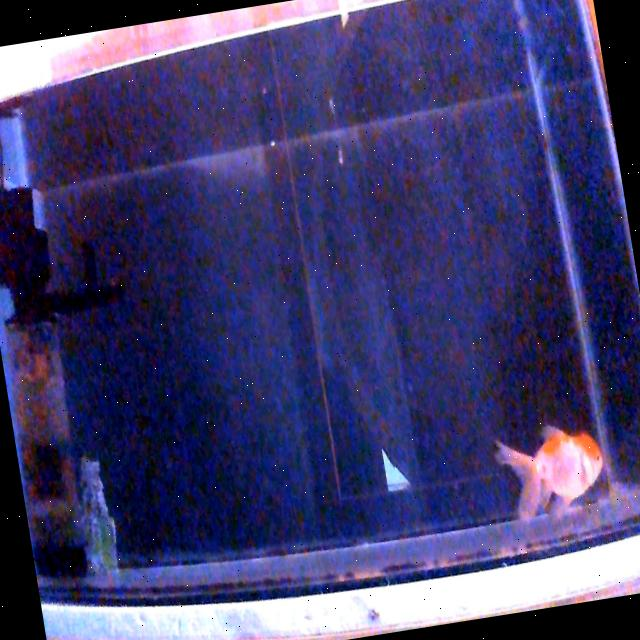fish: (492, 416, 610, 526)
